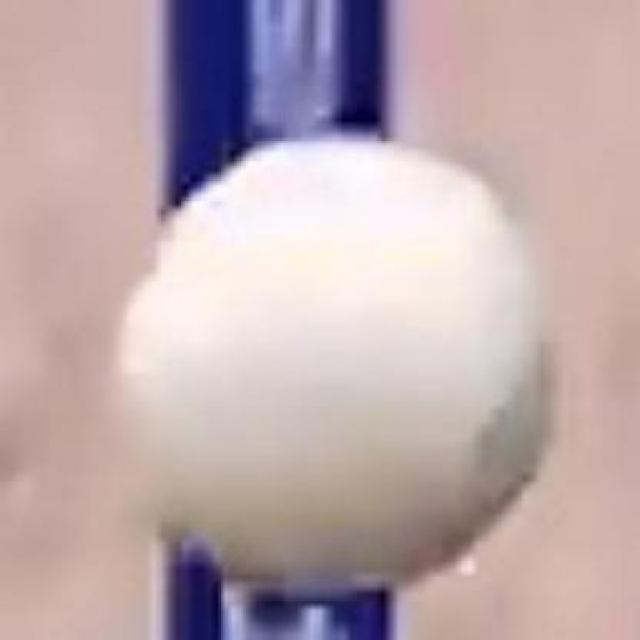Cricket ball: (86, 104, 584, 602)
